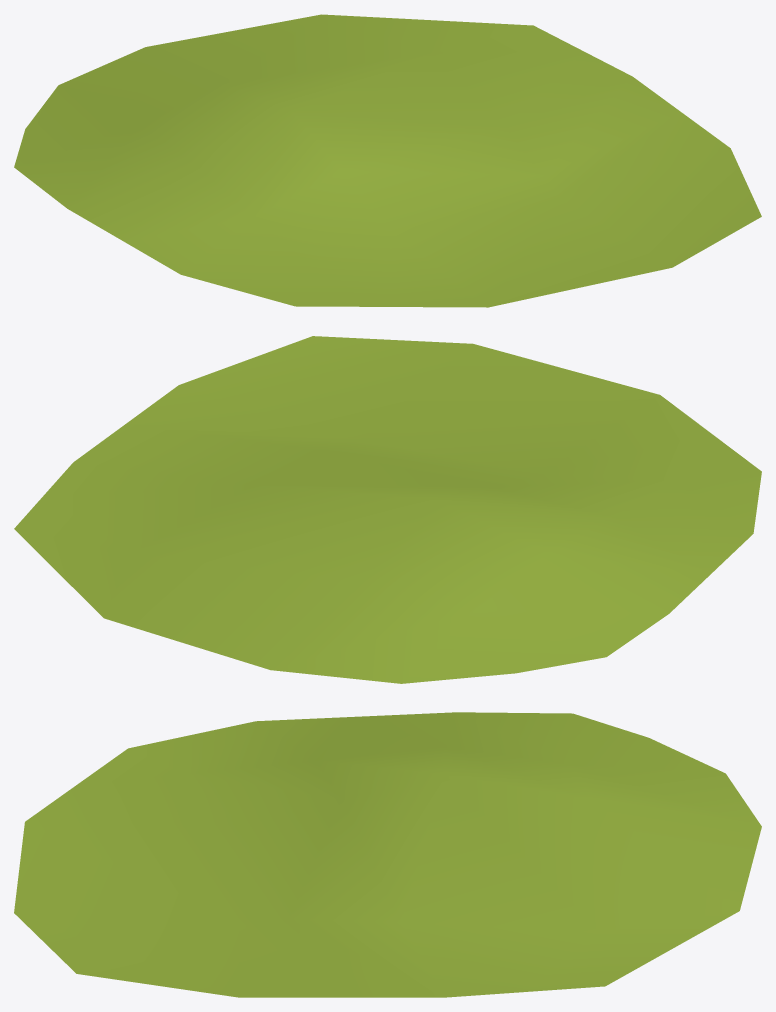
File: grass floor.fbx
3 renders of one model, top to bottom at view 1: azimuth 30°, elevation 25°; view 2: azimuth 150°, elevation 25°; view 3: azimuth 270°, elevation 25°, orthographic. The views are drawn at different scales.
Parts seen in each view (by area): view 1: Plane.002; view 2: Plane.002; view 3: Plane.002.
Part boxes in pixels (x1,y1,x2,y2): Plane.002: (14, 14, 761, 307); Plane.002: (14, 336, 761, 683); Plane.002: (14, 712, 761, 997).
Bounding box in the file's own units: 621 × 60.79 × 688.
